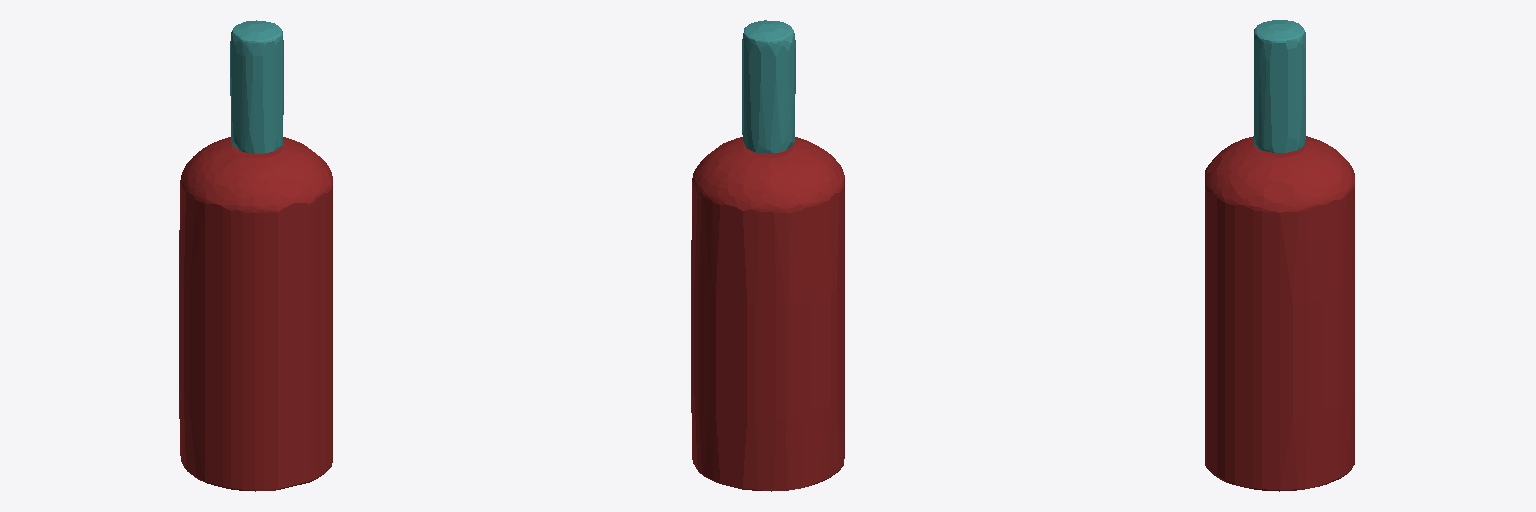
robot.urdf — root:
<robot name="root">
  <link name="bottle_body">
    <inertial>
      <origin xyz="0 0 0" rpy="0 0 0"/>
    </inertial>
    <mass value="1.00E-02"/>
    <visual>
      <origin xyz="0 0 0" rpy="0 0 0"/>
      <geometry>
        <mesh filename="core-bottle-7778c06ab2af1121b4bfcf9b3e6ed915-coacd_convex_piece_1.obj" scale="1.0000E-01 1.0000E-01 1.0000E-01"/>
      </geometry>
      <material name="">
        <color rgba="6.00E-01 2.00E-01 2.00E-01 1"/>
      </material>
    </visual>
    <collision>
      <origin xyz="0 0 0" rpy="0 0 0"/>
      <geometry>
        <mesh filename="core-bottle-7778c06ab2af1121b4bfcf9b3e6ed915-coacd_convex_piece_1.obj" scale="1.0000E-01 1.0000E-01 1.0000E-01"/>
      </geometry>
    </collision>
  </link>
  <link name="bottle_cap">
    <origin xyz="0 0 0.002" rpy="0 0 0"/>
    <mass value="1.00E-02"/>
    <visual>
      <origin xyz="0 0 0.002" rpy="0 0 0"/>
      <geometry>
        <mesh filename="core-bottle-7778c06ab2af1121b4bfcf9b3e6ed915-coacd_convex_piece_0.obj" scale="1.0000E-01 1.0000E-01 1.0000E-01"/>
      </geometry>
      <material name="">
        <color rgba="3.00E-01 6.00E-01 6.00E-01 1"/>
      </material>
    </visual>
    <collision>
      <origin xyz="0 0 0.002" rpy="0 0 0"/>
      <geometry>
        <mesh filename="core-bottle-7778c06ab2af1121b4bfcf9b3e6ed915-coacd_convex_piece_0.obj" scale="1.0000E-01 1.0000E-01 1.0000E-01"/>
      </geometry>
    </collision>
  </link>
  <joint name="bottle_cap_joint" type="revolute">
    <origin xyz="0 0 0" rpy="0 0 0"/>
    <parent link="bottle_body"/>
    <child link="bottle_cap"/>
    <axis xyz="0 0 1"/>
    <limit lower="0.00" upper="6.28"/>
    <dynamics damping="0.05"/>
  </joint>
</robot>

--- Render facts (derived) ---
3 views of the same robot in one strip: view 1: azimuth 30°, elevation 25°; view 2: azimuth 150°, elevation 25°; view 3: azimuth 270°, elevation 25° (orthographic).
Model root with 2 links and 1 joints (1 revolute), rooted at bottle_body, posed all joints at 0.
Links seen in each view (by area): view 1: bottle_body, bottle_cap; view 2: bottle_body, bottle_cap; view 3: bottle_body, bottle_cap.
Link boxes in pixels (x1=…): bottle_body: x1=179, y1=137, x2=332, y2=491; bottle_cap: x1=230, y1=20, x2=283, y2=153; bottle_body: x1=691, y1=137, x2=844, y2=491; bottle_cap: x1=742, y1=20, x2=795, y2=153; bottle_body: x1=1205, y1=136, x2=1354, y2=491; bottle_cap: x1=1254, y1=20, x2=1305, y2=152.
Size in the robot's own frame: 0.062 by 0.0599 by 0.1921 metres.
Meshes: 2 distinct files referenced, 2 mesh visuals loaded (2 OBJ).